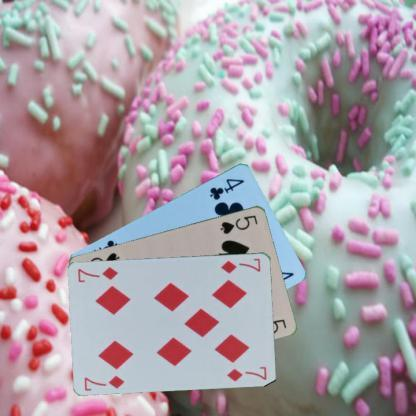4c: (207, 176, 245, 202)
5s: (218, 212, 260, 235)
7d: (81, 373, 126, 391), (218, 256, 262, 274)
